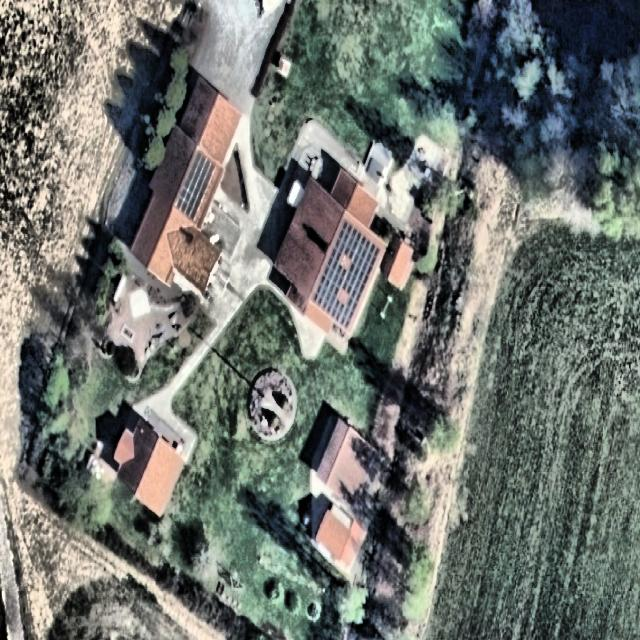roof_pv: (310, 218, 381, 328), (177, 149, 215, 222)
